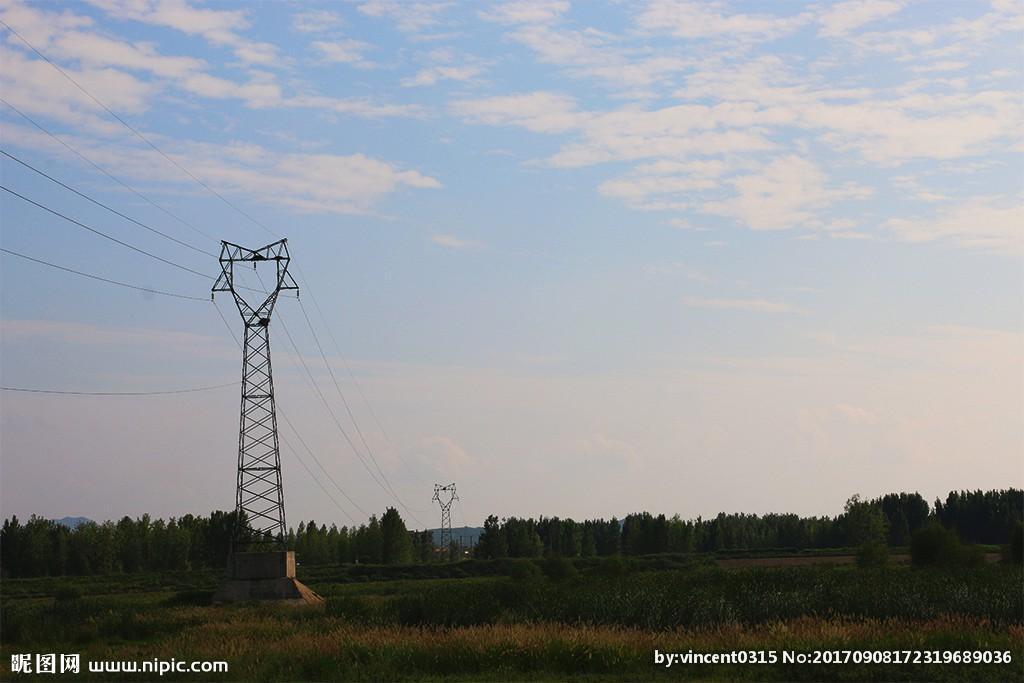power_tower: (200, 228, 309, 574), (418, 474, 462, 561)
